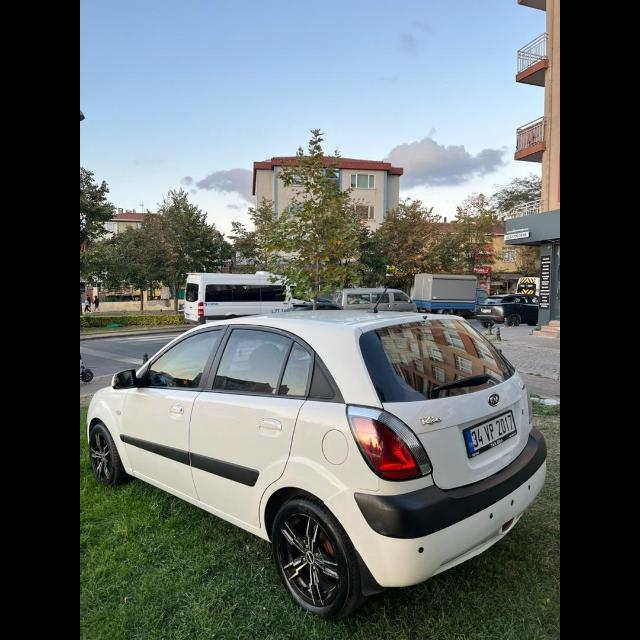Plaka: (468, 410, 516, 454)
